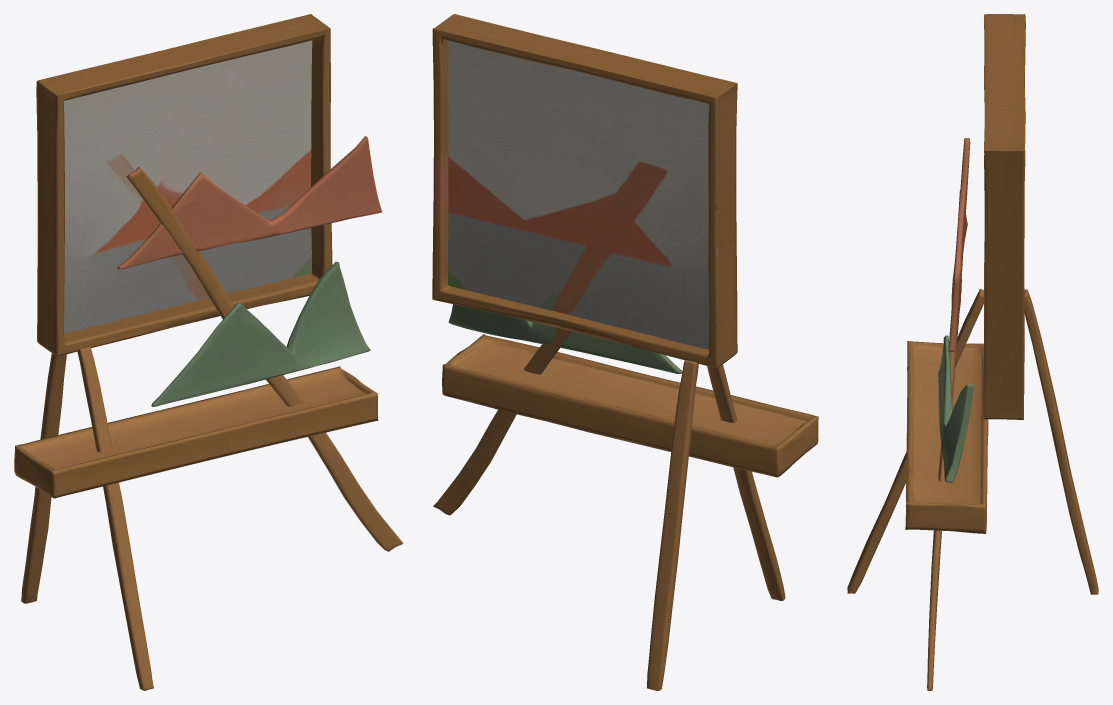
The model's file is easel.starter.glb.
3 views of the same model, side by side, from view 1: azimuth 30°, elevation 25°; view 2: azimuth 150°, elevation 25°; view 3: azimuth 270°, elevation 25° (orthographic). The views are drawn at different scales.
Visible parts, largest first — view 1: geometry_0; view 2: geometry_0; view 3: geometry_0.
Part boxes in pixels (left/top/right/bottom): geometry_0: left=14, top=14, right=403, bottom=690; geometry_0: left=432, top=14, right=818, bottom=690; geometry_0: left=847, top=14, right=1098, bottom=690.
Bounding box in the file's own units: 0.6852 × 1 × 0.4042.
1 material, 1 textured.
